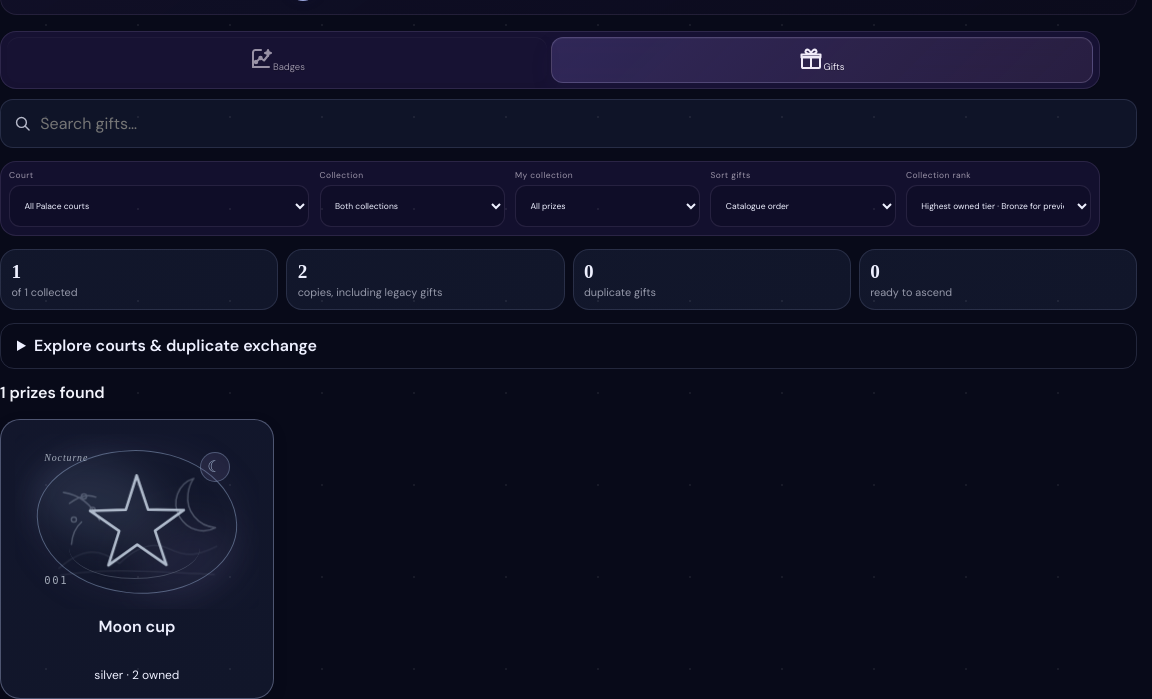
Test: keeps gift actions in a dismissable detail panel
The image size is (1152, 699).
(page scrolled)
Expected: the heading "Moon cup" is shown, 98,616 -> 175,637
Expected: the button "Add to chamber showcase" is not shown
Click the button with aria-label "Open Moon cup details" at (137, 559), box 15,434 -> 259,684
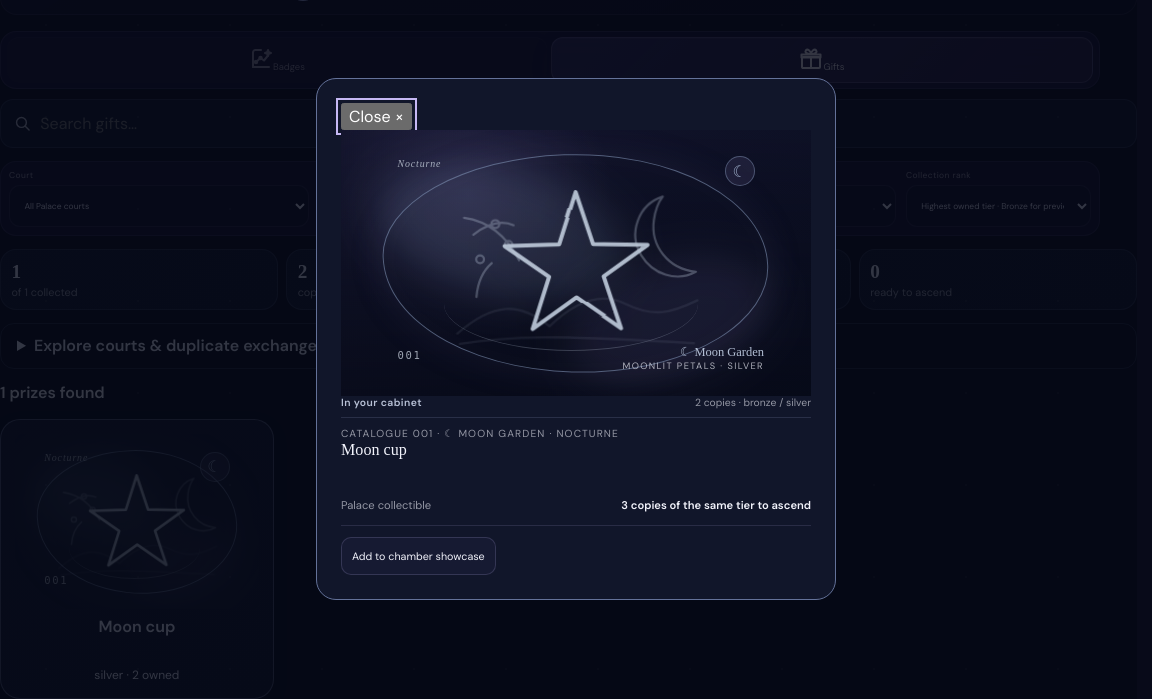
Result: the dialog named "Moon cup details" is shown at 316,78 -> 836,600
Result: the button "Add to chamber showcase" is shown at 341,537 -> 496,575
Click the button "Close ×" at (376, 116), box 341,103 -> 412,130
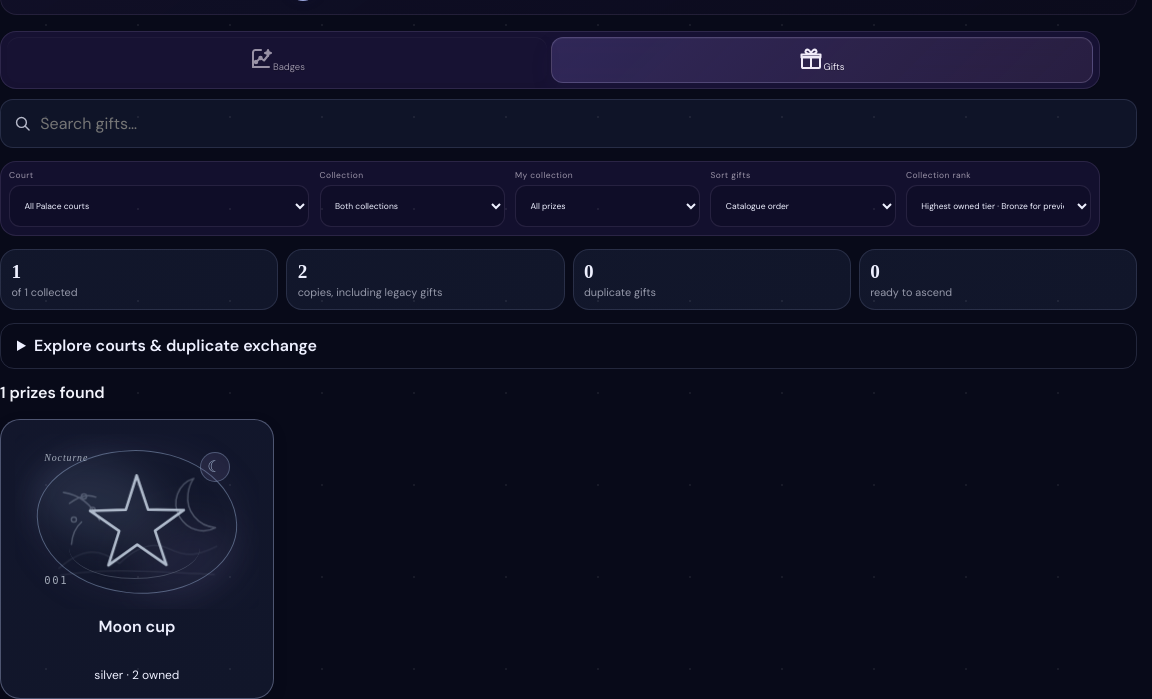
Result: the dialog is gone
